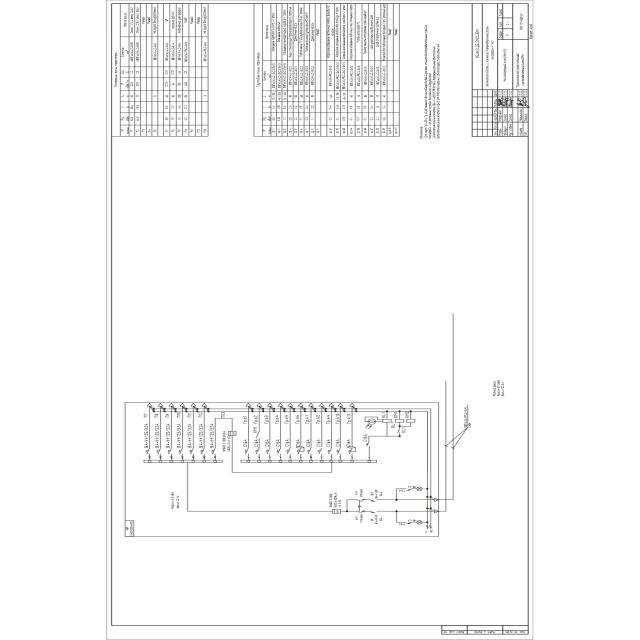-: (221, 431, 231, 452), (328, 492, 341, 508), (208, 423, 214, 448), (198, 423, 204, 448), (175, 423, 181, 448), (154, 424, 160, 448), (186, 424, 192, 448), (125, 520, 134, 536), (142, 424, 148, 448), (164, 424, 170, 448), (374, 514, 382, 524), (374, 489, 382, 499), (316, 438, 321, 448), (335, 438, 340, 448), (346, 438, 351, 447), (265, 438, 270, 447), (243, 439, 248, 448), (295, 438, 300, 447), (326, 438, 331, 447), (284, 438, 289, 447), (363, 434, 368, 442), (306, 438, 310, 448), (254, 438, 258, 448), (276, 438, 280, 447), (398, 489, 407, 492), (402, 427, 406, 433), (394, 412, 398, 418), (391, 422, 395, 428), (405, 412, 409, 418), (382, 412, 386, 418), (406, 486, 416, 488), (360, 488, 362, 498), (407, 520, 417, 522), (360, 514, 362, 522), (398, 523, 405, 525)
HL: (416, 520, 422, 525), (417, 486, 422, 491)
K: (394, 419, 404, 423), (406, 419, 416, 423), (382, 418, 392, 422)
KM: (356, 510, 365, 514), (356, 498, 364, 502)
QF: (366, 442, 372, 458), (145, 448, 151, 460), (211, 448, 217, 460), (156, 448, 162, 460), (307, 448, 313, 460), (189, 448, 195, 459), (200, 448, 206, 459), (179, 448, 185, 459), (168, 448, 174, 459), (276, 448, 282, 458), (286, 448, 292, 458), (318, 448, 324, 458), (256, 448, 262, 458), (244, 448, 250, 458), (266, 448, 272, 458), (337, 448, 342, 458), (328, 448, 333, 458), (370, 510, 378, 514), (370, 498, 378, 502), (406, 488, 412, 491), (405, 522, 411, 524)
QFD: (347, 446, 356, 458), (296, 446, 304, 458)
QS: (397, 428, 401, 434)
WH: (332, 508, 342, 514), (227, 431, 237, 436)
